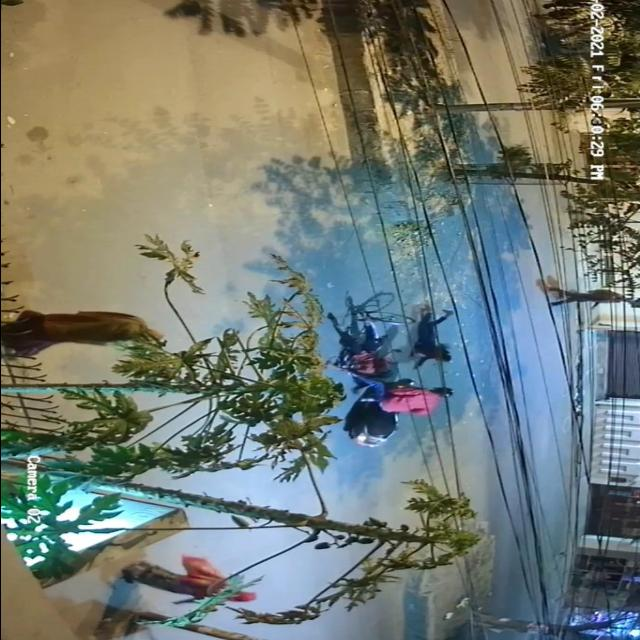accident: (333, 288, 467, 451)
